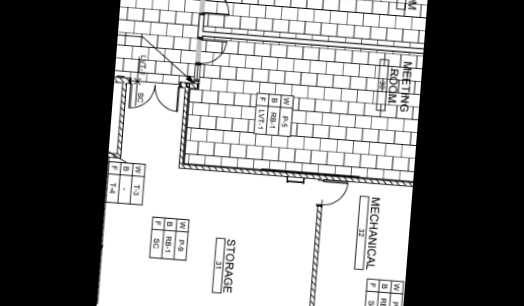door: (127, 79, 181, 114), (306, 204, 324, 306), (318, 178, 349, 210), (197, 37, 228, 67)
double door: (201, 0, 233, 18)
wall: (175, 161, 412, 191), (175, 81, 192, 171), (114, 74, 131, 162)
